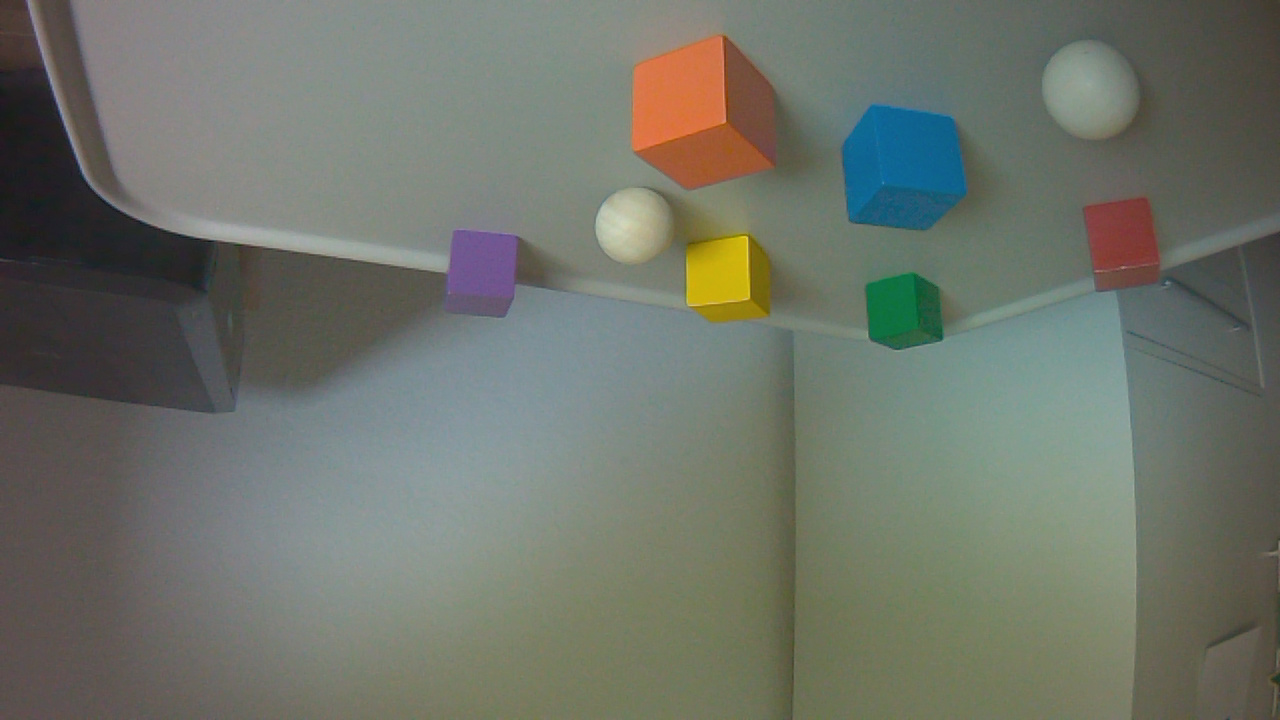ball: (1044, 41, 1146, 149), (599, 190, 680, 273)
cube_blue: (844, 104, 977, 239)
cube_green: (869, 277, 950, 359)
cube_orange: (635, 37, 784, 196)
cube_purple: (447, 233, 526, 323)
cube_red: (1087, 203, 1168, 300)
cube_yellow: (688, 238, 779, 331)
